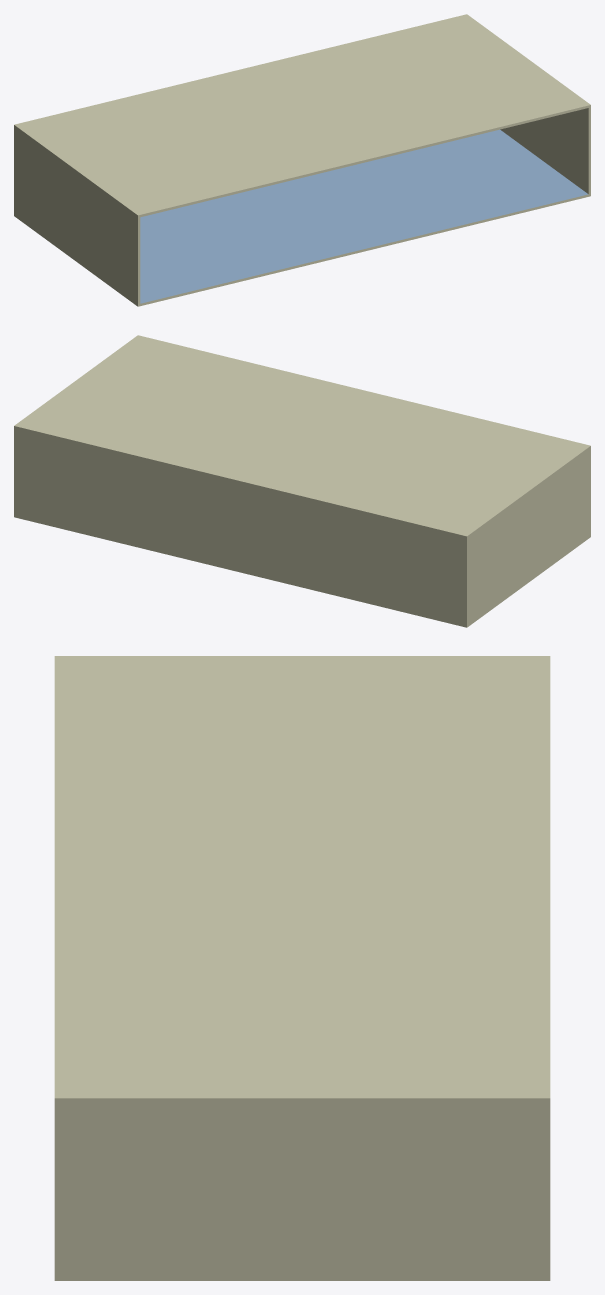
The model's file is Room.fbx.
3 views of the same model, one above another, from view 1: azimuth 30°, elevation 25°; view 2: azimuth 150°, elevation 25°; view 3: azimuth 270°, elevation 25° (orthographic). The views are drawn at different scales.
Parts seen in each view (by area): view 1: Room; view 2: Room; view 3: Room.
Boxes of the visible parts, bbox=[...] form: Room: bbox=[14, 14, 590, 306]; Room: bbox=[14, 335, 590, 627]; Room: bbox=[54, 656, 550, 1280].
Size of the model in its own units: 1920 by 370 by 910.
